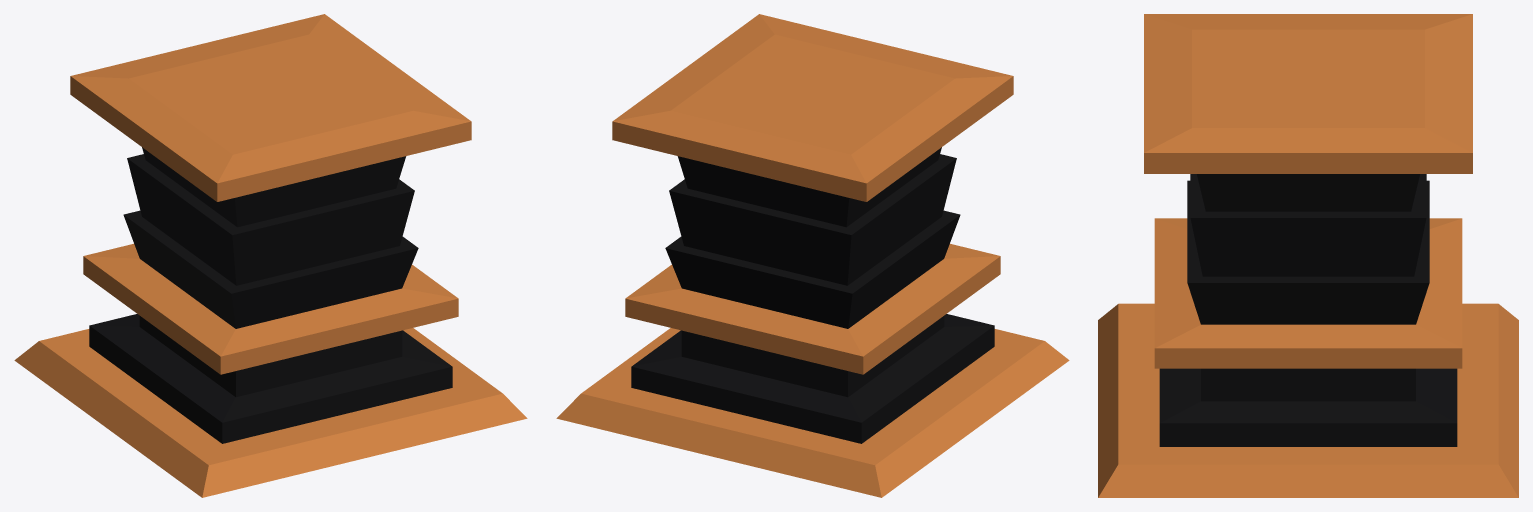
Rendered from pillar_3.FBX.
3 renders of one model, left to right at view 1: azimuth 30°, elevation 25°; view 2: azimuth 150°, elevation 25°; view 3: azimuth 270°, elevation 25°, orthographic. The views are drawn at different scales.
Parts seen in each view (by area): view 1: pillar_3; view 2: pillar_3; view 3: pillar_3.
Boxes of the visible parts, bbox=[...] form: pillar_3: bbox=[14, 14, 527, 497]; pillar_3: bbox=[556, 14, 1069, 497]; pillar_3: bbox=[1098, 14, 1518, 497].
Bounding box in the file's own units: 865 × 749 × 865.
